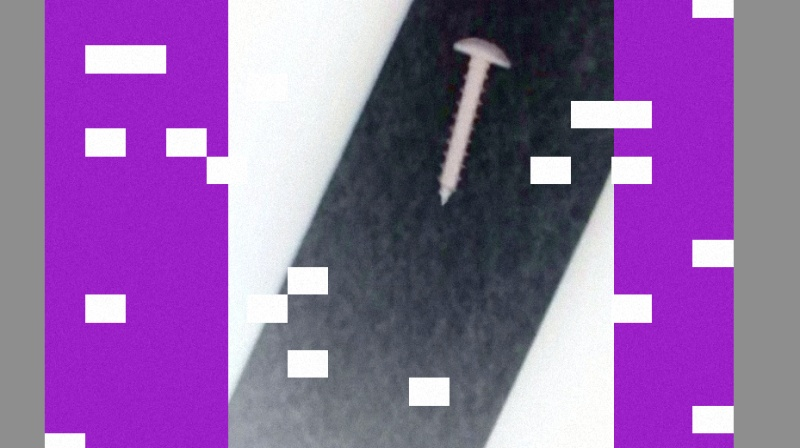S003: (435, 32, 514, 211)
